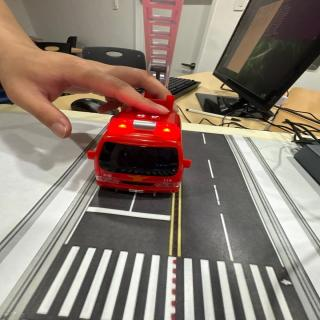Fire_truck: (87, 108, 191, 193)
